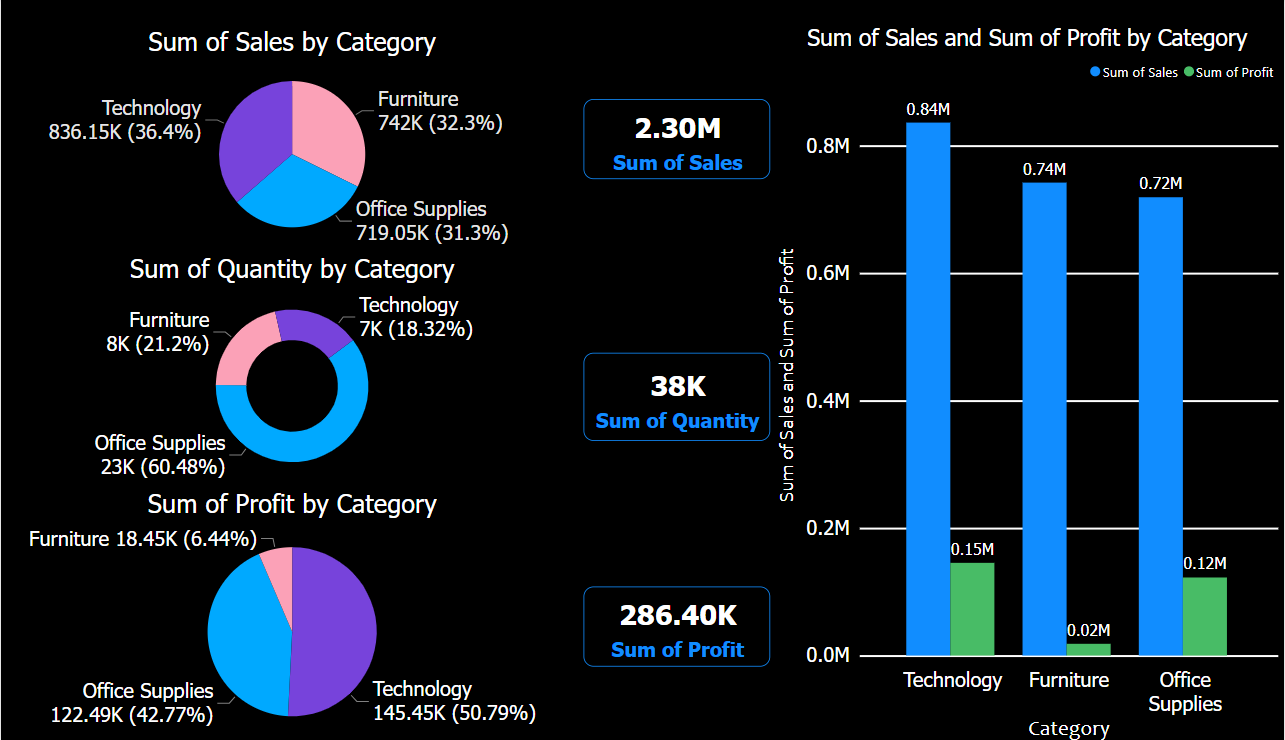

This screenshot's page, from the dashboard's own definition file:
{"tool":"powerbi","page":{"name":"Page 2","canvas":[1280,720],"ordinal":1},"visuals":[{"type":"pieChart","fields":{"Series":["Orders.Category"],"Y":["Sum(Orders.Sales)"]},"box":[0,1.7,581.7,226.7],"z":0},{"type":"donutChart","fields":{"Category":["Orders.Category"],"Y":["Sum(Orders.Quantity)"]},"box":[0,228.3,581.7,235],"z":1000},{"type":"pieChart","fields":{"Y":["Sum(Orders.Profit)"],"Category":["Orders.Category"]},"box":[0,463.3,581.7,256.7],"z":2000},{"type":"card","fields":{"Values":["Sum(Orders.Sales)"]},"box":[581.7,75,186.7,80],"z":3000},{"type":"clusteredColumnChart","fields":{"Category":["Orders.Category"],"Y":["Sum(Orders.Sales)","Sum(Orders.Profit)"]},"box":[768.3,0,511.7,720],"z":4000},{"type":"card","fields":{"Values":["Sum(Orders.Quantity)"]},"box":[581.7,328.3,186.7,88.3],"z":5000},{"type":"card","fields":{"Values":["Sum(Orders.Profit)"]},"box":[581.7,561.7,186.7,80],"z":6000}]}

Visuals, with their boxes in screenshot pixels (x1, y1, x2, y2), scaled from the page's 1280x720 canvas onto the 1285x740 screenshot:
pieChart - Orders.Category x Sum(Orders.Sales): bbox(0, 2, 584, 235)
donutChart - Orders.Category x Sum(Orders.Quantity): bbox(0, 235, 584, 476)
pieChart - Sum(Orders.Profit) x Orders.Category: bbox(0, 476, 584, 739)
card - Sum(Orders.Sales): bbox(584, 77, 771, 159)
clusteredColumnChart - Orders.Category x Sum(Orders.Sales): bbox(771, 0, 1284, 739)
card - Sum(Orders.Quantity): bbox(584, 337, 771, 428)
card - Sum(Orders.Profit): bbox(584, 577, 771, 660)
